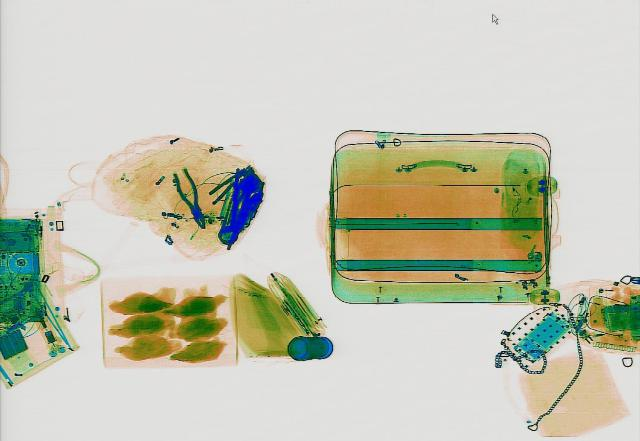Pliers: (167, 168, 213, 229), (199, 166, 253, 203)
